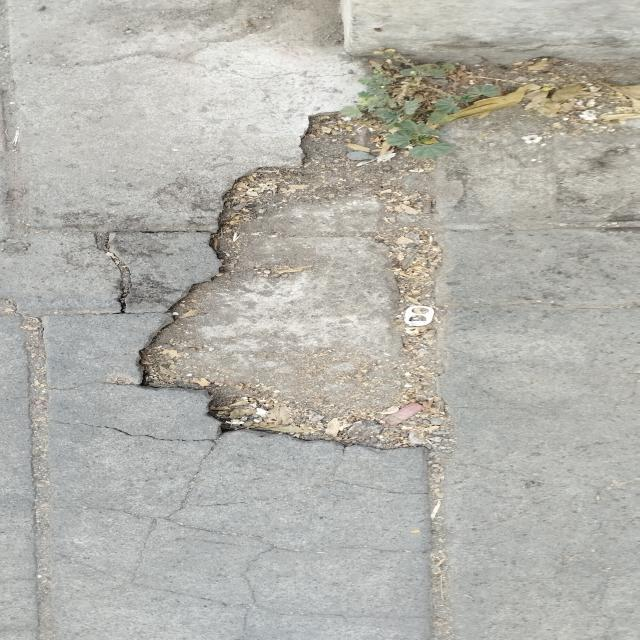hole: (136, 112, 450, 452)
